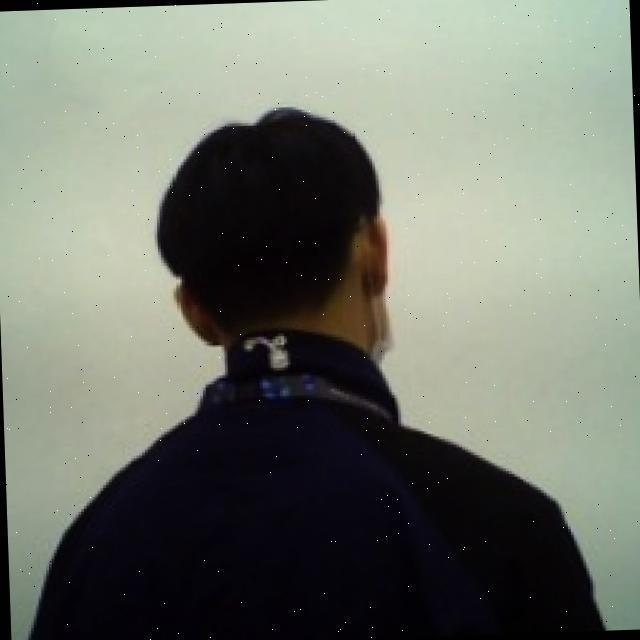no_gloves: (148, 98, 397, 340)
